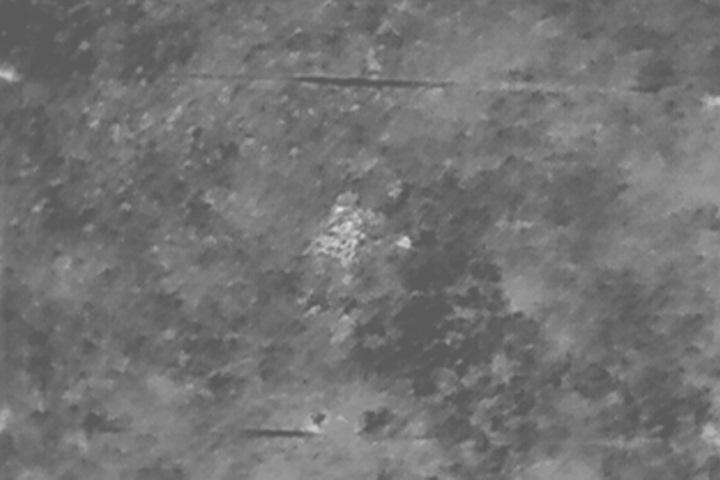landmine: (323, 199, 376, 248)
